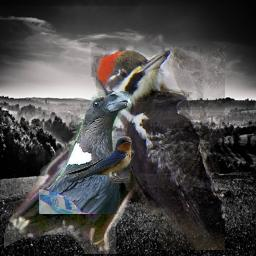Crow: (4, 64, 174, 254), (39, 91, 132, 214)
Swallow: (53, 136, 135, 183)
Woodpecker: (91, 46, 225, 250)
